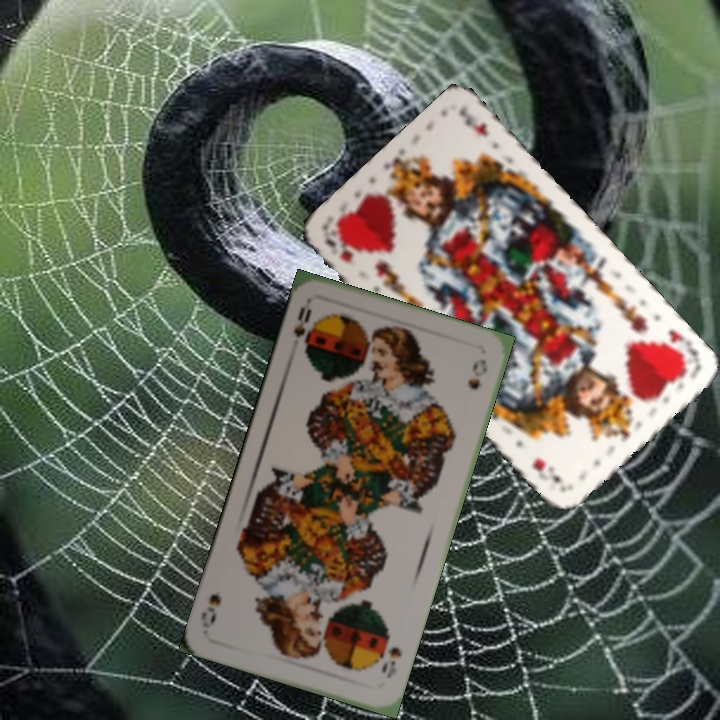HK: (658, 325, 703, 373), (321, 229, 357, 266)
SO: (289, 298, 317, 356), (377, 631, 405, 681)
